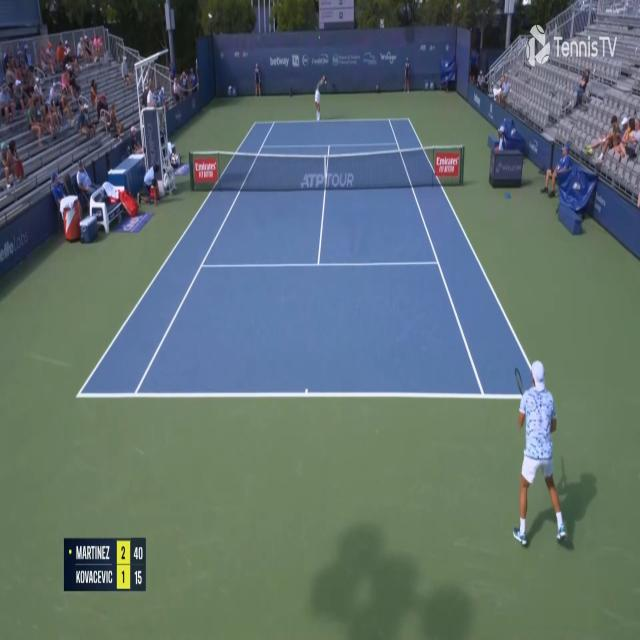tennis-player: (511, 355, 572, 556), (314, 72, 332, 124)
